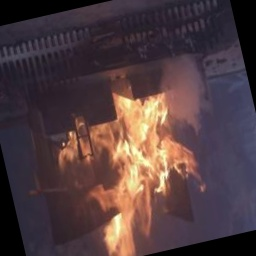fire: (55, 78, 218, 256)
